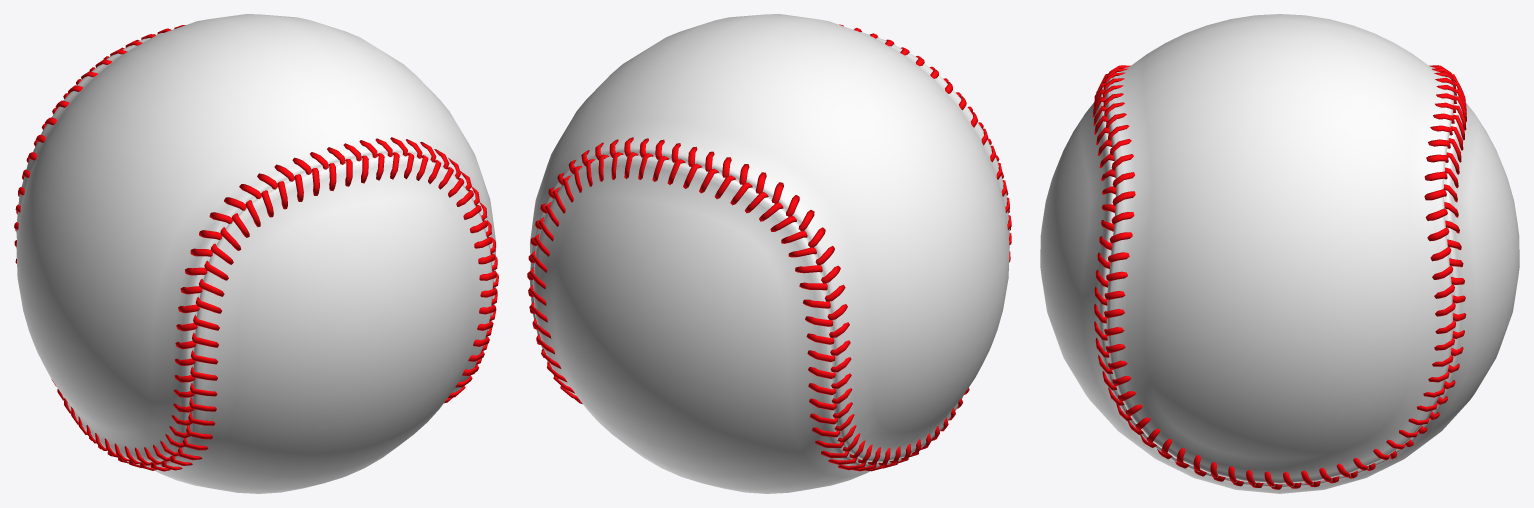
The model's file is ball.gltf.
3 views of the same model, side by side, from view 1: azimuth 30°, elevation 25°; view 2: azimuth 150°, elevation 25°; view 3: azimuth 270°, elevation 25° (orthographic).
Parts seen in each view (by area): view 1: Bola, Costuras; view 2: Bola, Costuras; view 3: Bola, Costuras.
Part boxes in pixels (x1,y1,x2,y2): Bola: [16, 14, 496, 493]; Costuras: [14, 25, 498, 471]; Bola: [529, 14, 1009, 493]; Costuras: [527, 24, 1011, 471]; Bola: [1040, 14, 1519, 493]; Costuras: [1092, 65, 1466, 489].
Size of the model in its own units: 0.7496 by 0.7508 by 0.7496.
2 materials, 1 textured.
